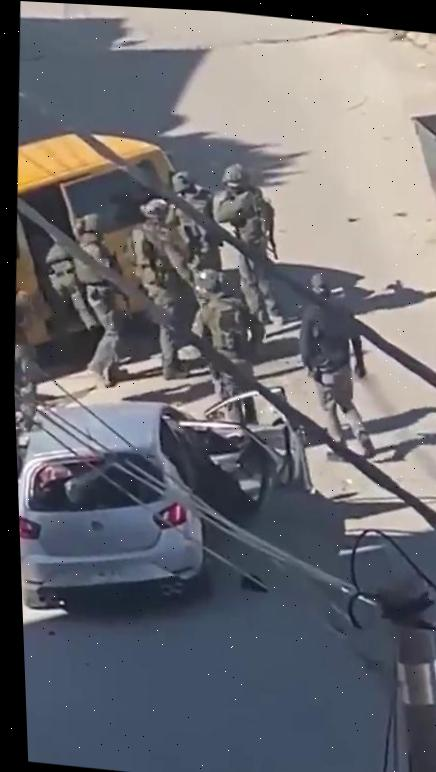car: (13, 356, 297, 633)
person: (288, 269, 388, 465), (118, 194, 206, 384), (206, 160, 293, 328), (59, 211, 140, 391), (182, 267, 271, 423), (160, 168, 227, 272)
